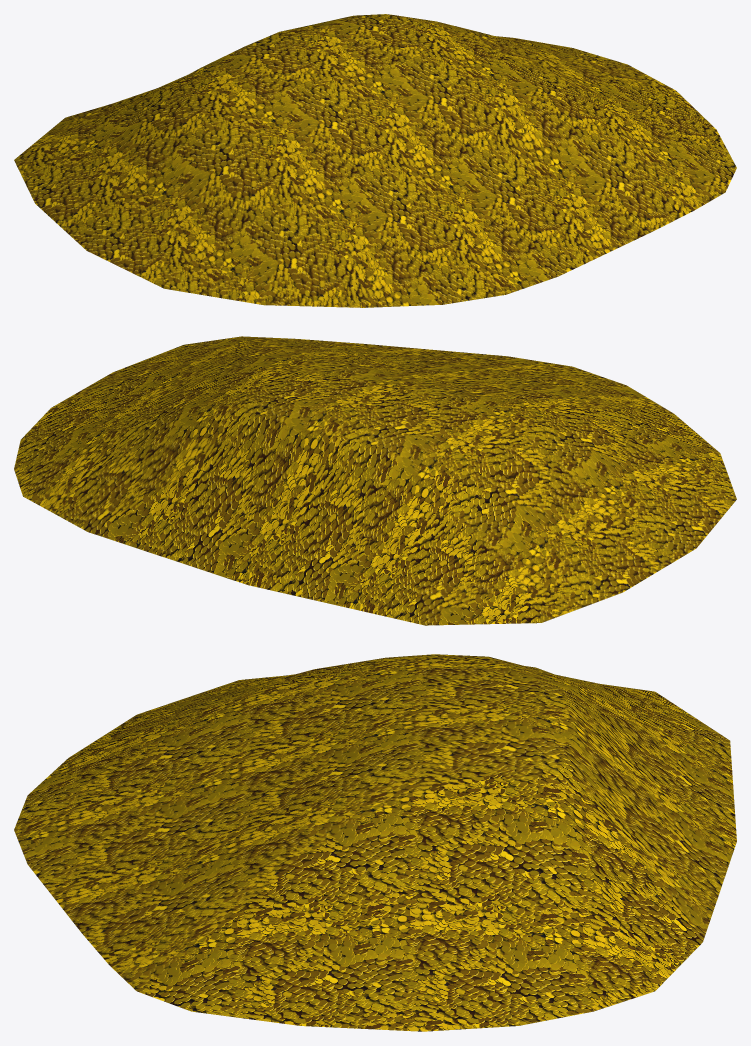
File: INST_SM_GOLDPILE_LARGEA.obj
3 views of the same model, one above another, from view 1: azimuth 30°, elevation 25°; view 2: azimuth 150°, elevation 25°; view 3: azimuth 270°, elevation 25° (orthographic). The views are drawn at different scales.
Parts seen in each view (by area): view 1: SM_GP_Top07; view 2: SM_GP_Top07; view 3: SM_GP_Top07.
Part boxes in pixels (<box>): SM_GP_Top07: <box>14,14,736,307</box>; SM_GP_Top07: <box>14,336,736,625</box>; SM_GP_Top07: <box>14,654,736,1031</box>.
Size of the model in its own units: 1575 by 265 by 1325.
